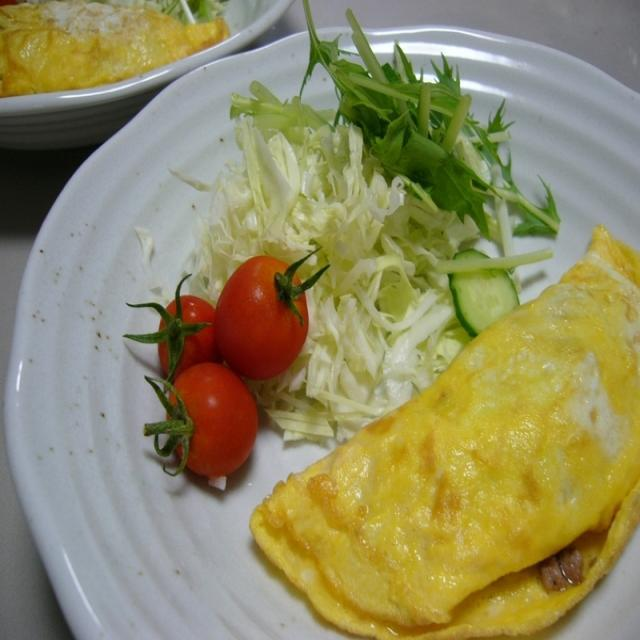Green Salad: (227, 18, 519, 343)
Omelet: (255, 197, 640, 640)
